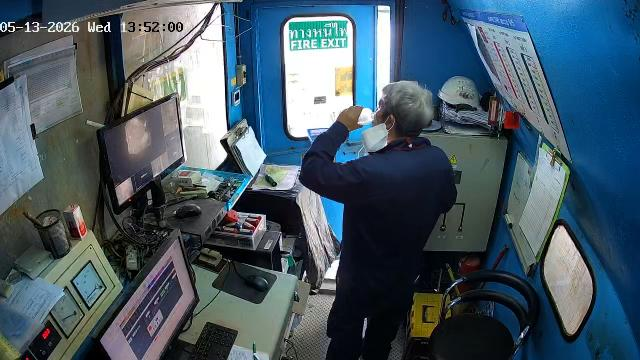Head: (374, 81, 433, 140)
People: (300, 81, 456, 359)
